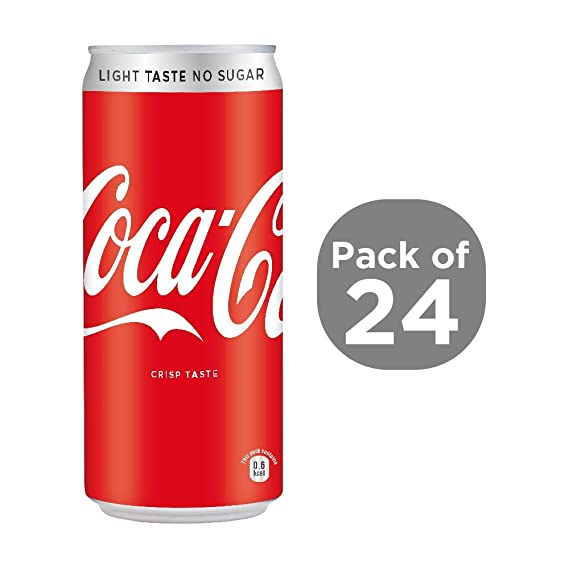coke: (78, 156, 290, 351)
